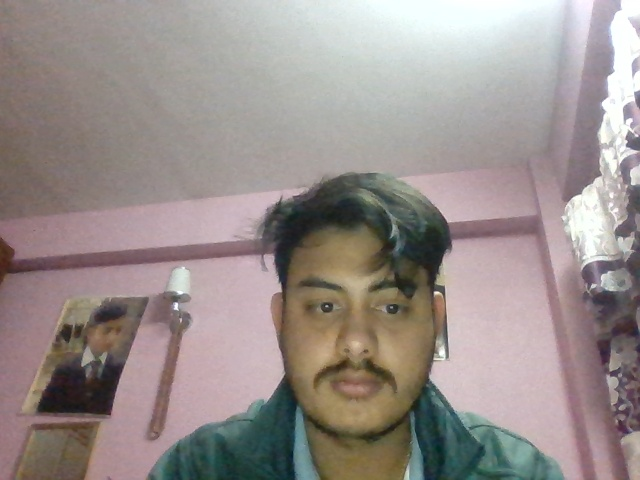no mask: (268, 322, 449, 445)
